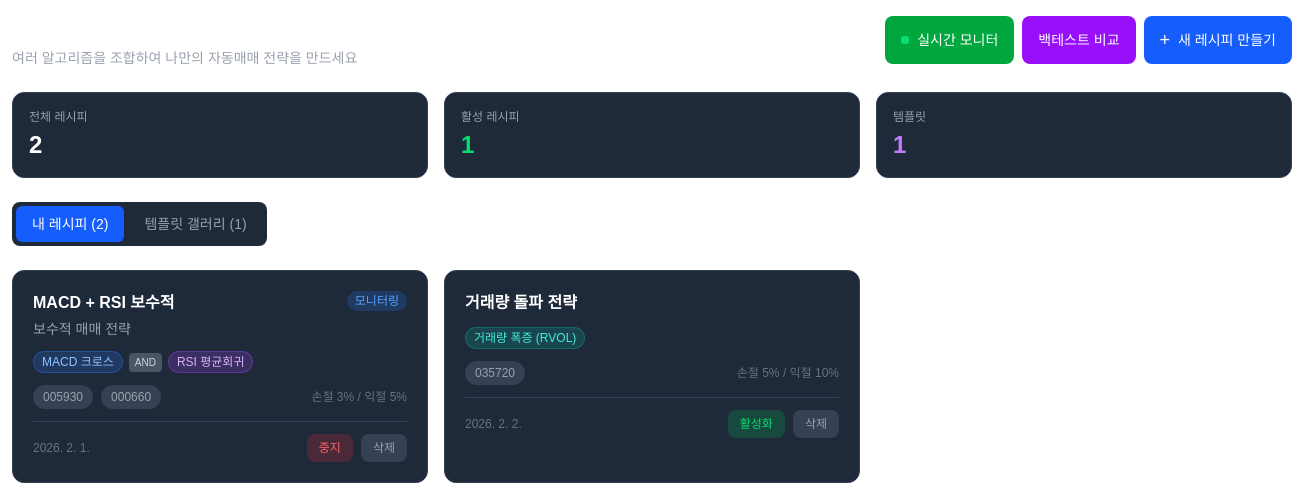
Test: RecipesPage › shows templates tab
Click the button "템플릿 갤러리 (1)". click: (196, 224)
box: left=128, top=206, right=263, bottom=242
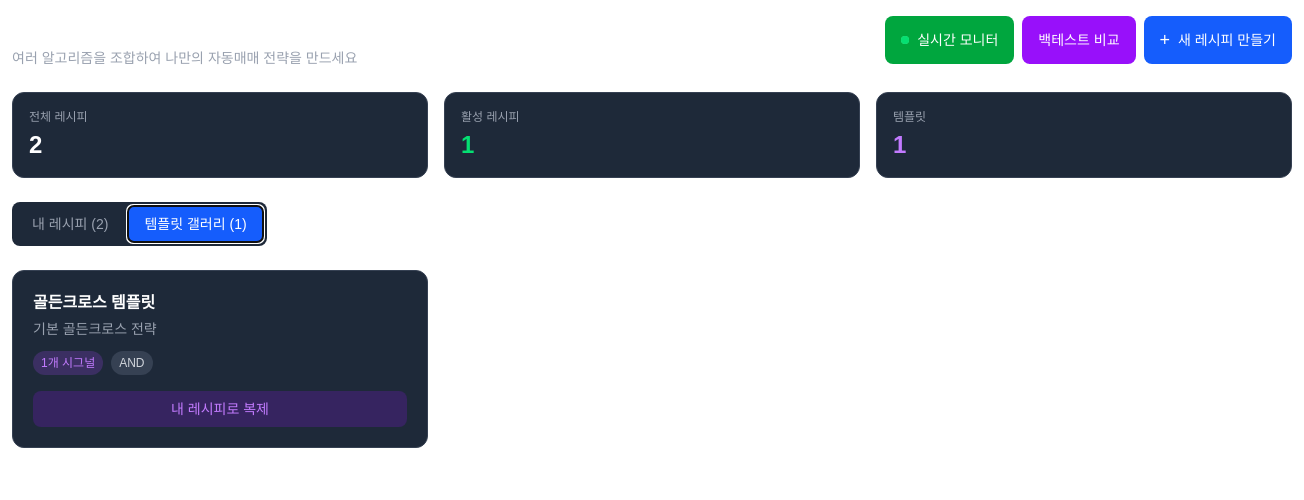
Expected: the heading "골든크로스 템플릿" is shown, left=33, top=294, right=155, bottom=311
Expected: the button "내 레시피로 복제" is shown, left=33, top=391, right=407, bottom=427
